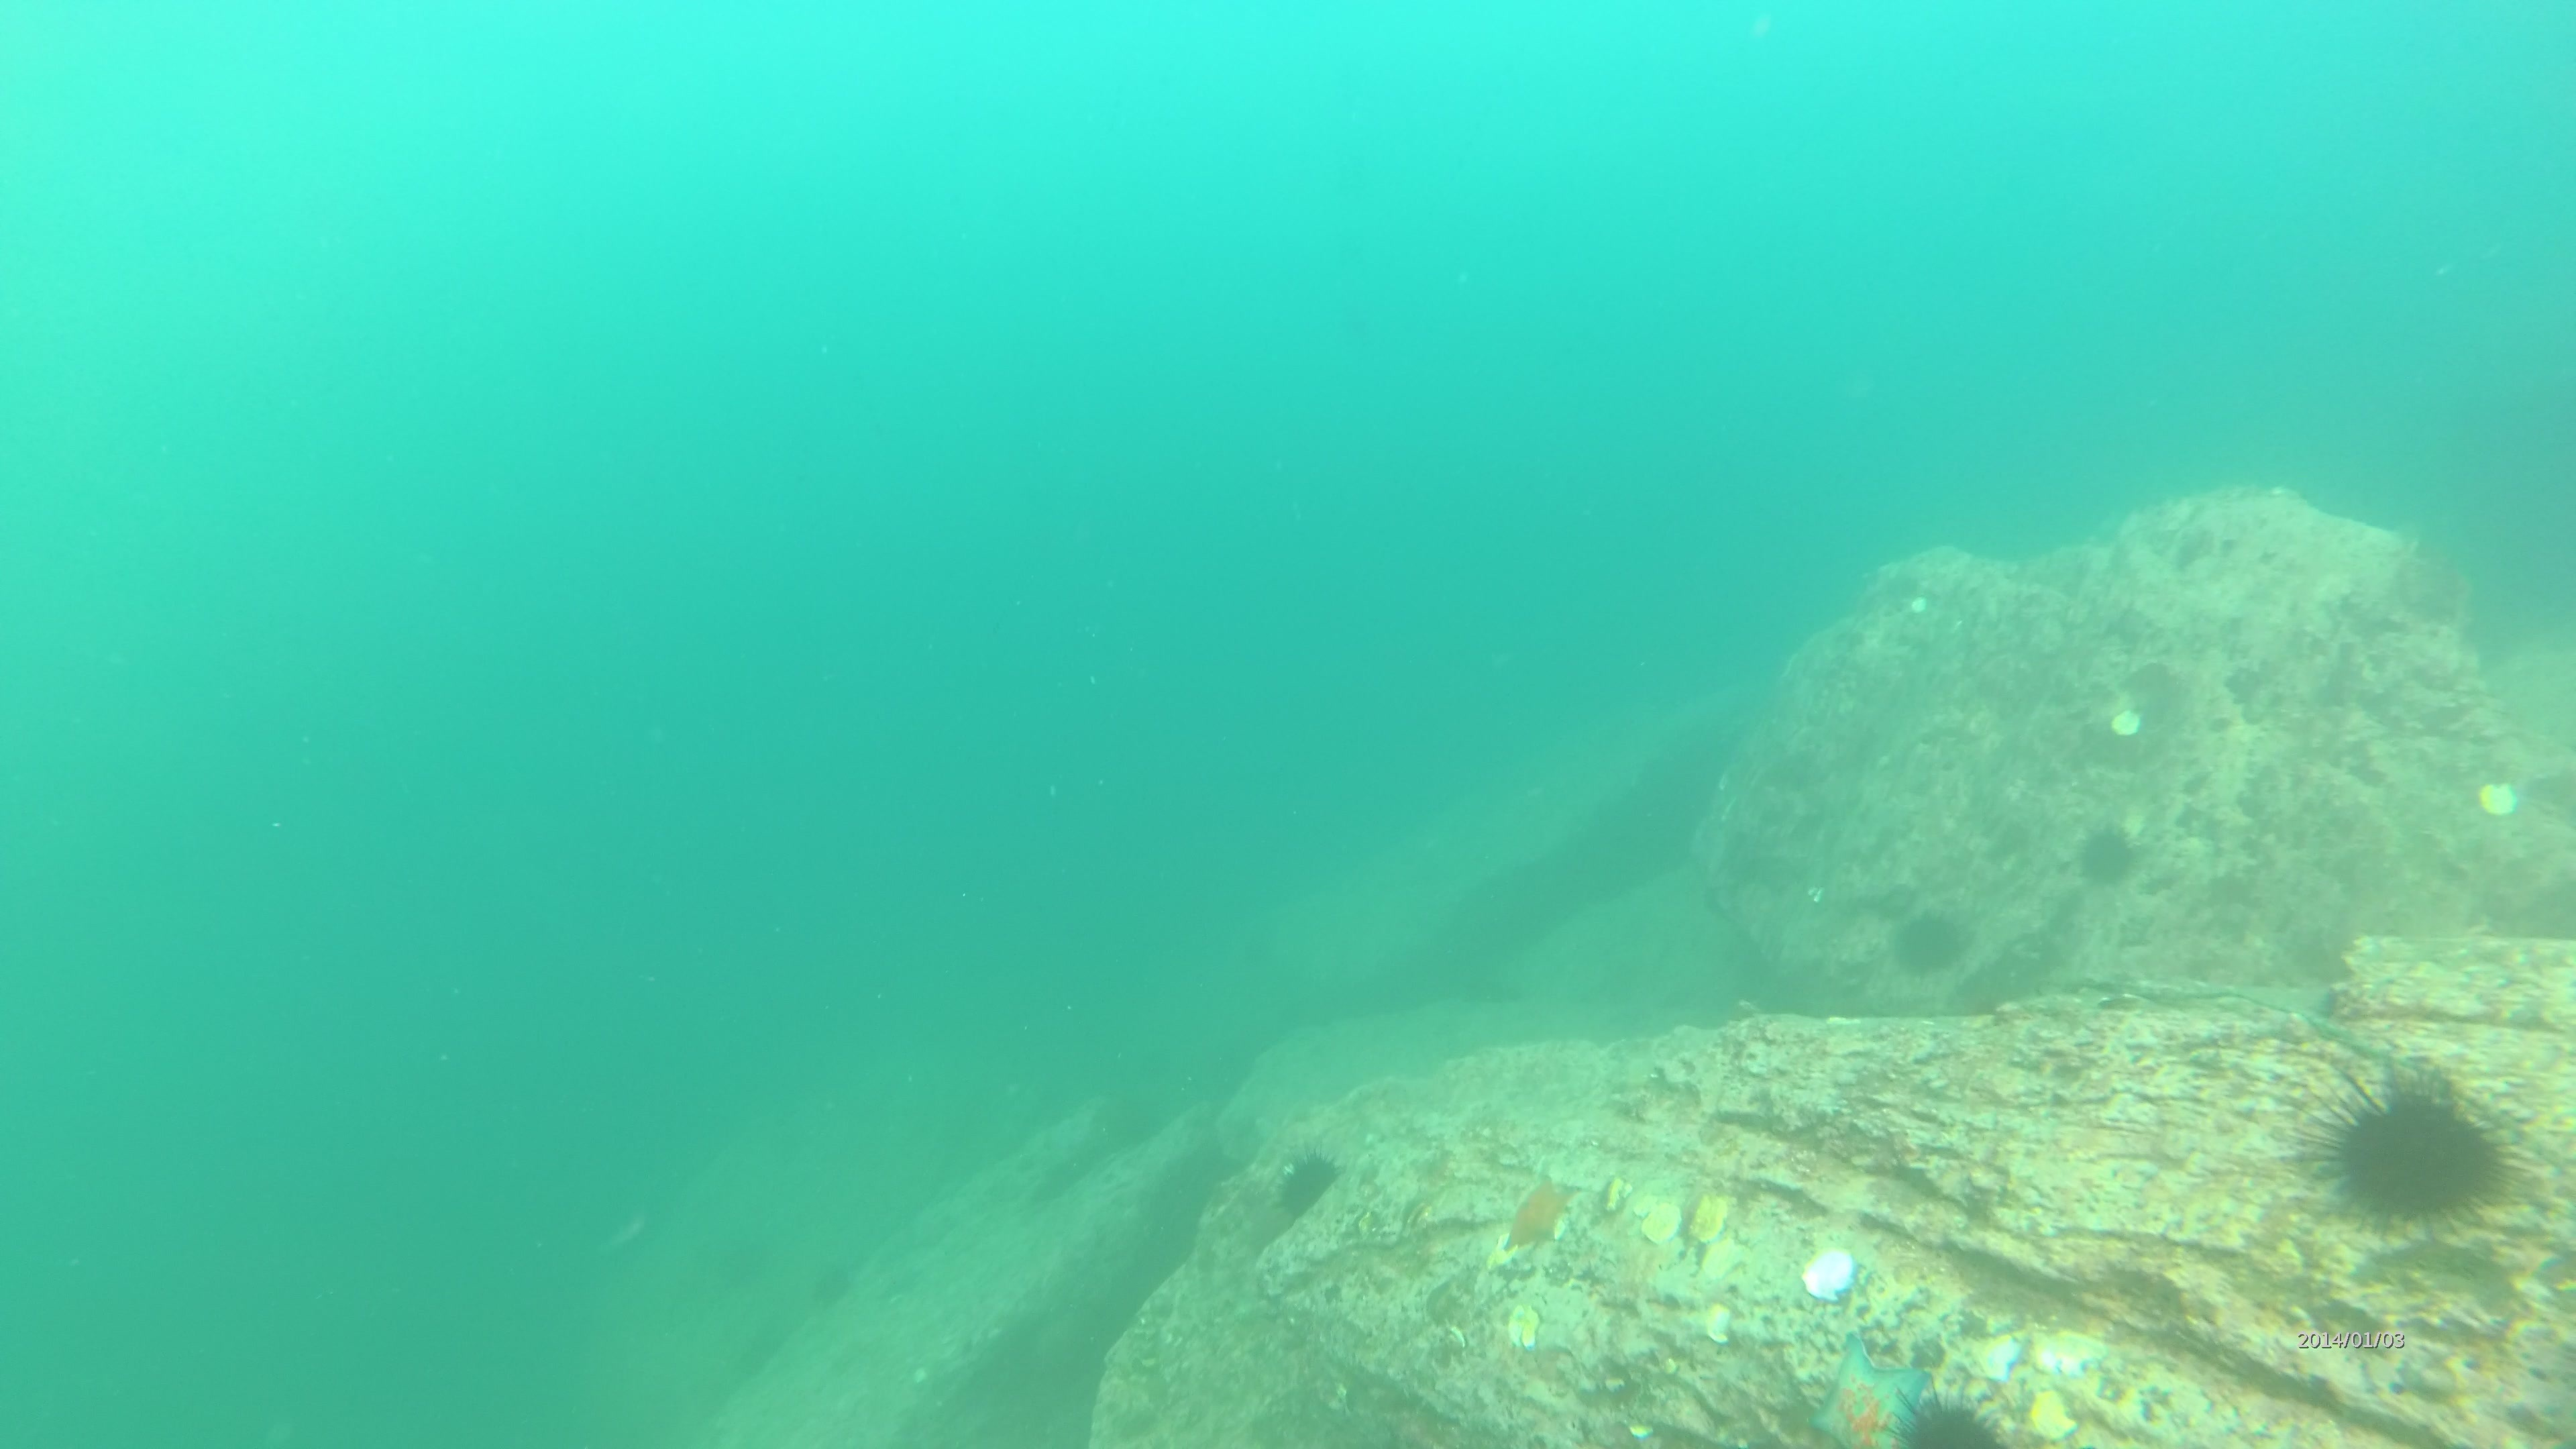echinus: (2300, 1060, 2514, 1246), (1890, 904, 1983, 980), (805, 1249, 874, 1322), (708, 1226, 777, 1297), (1254, 1148, 1322, 1219), (731, 1313, 798, 1384), (2075, 819, 2139, 885)
starfish: (1801, 1327, 1921, 1449)
